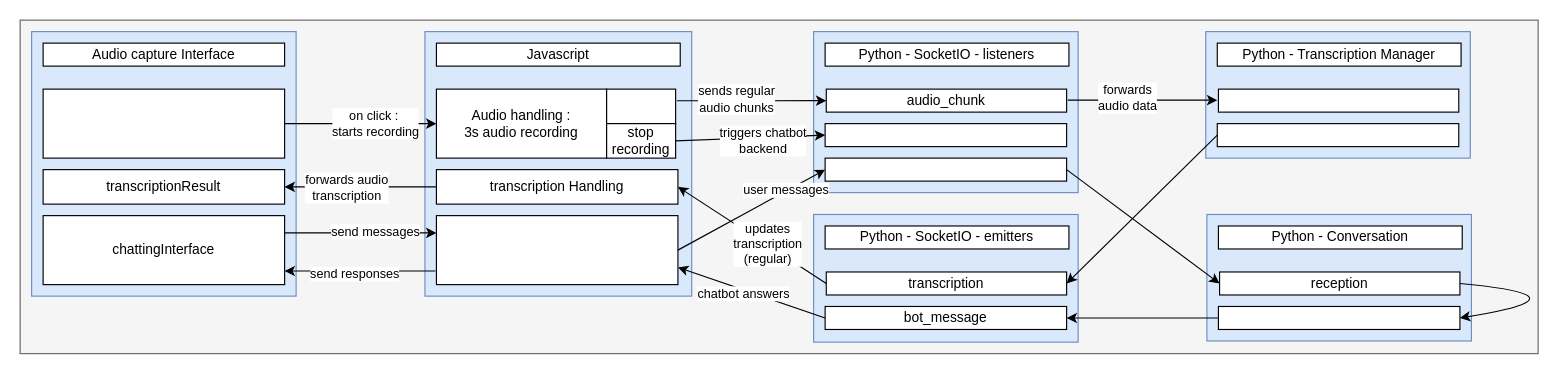
Image size: 1558x374. Some labels were removed from this diagram. The shapes that lost their labels are listed below. From the top down, each one's centre as x and y in pixels, then its label:
At (640,106): "start recording".
At (1338,100): "__init__".
At (163,123): "recordingInterface".
At (945,134): "start_processing".
At (1337,134): "get_current_transcription".
At (945,169): "user_message".
At (556,249): "chatbot manager".
At (1338,317): "response".
